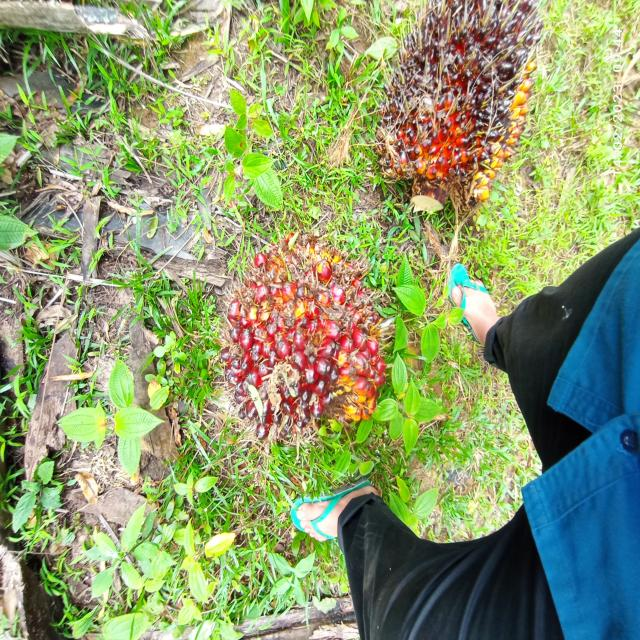fraksi 1: (350, 0, 552, 255)
fraksi 3: (161, 172, 398, 540)
